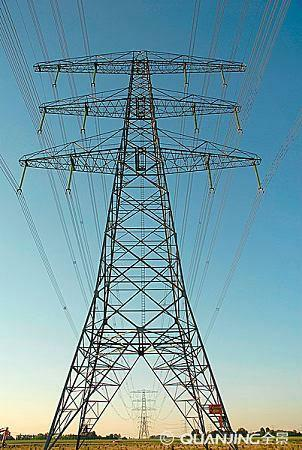power_tower: (12, 34, 263, 450), (128, 384, 163, 440)
